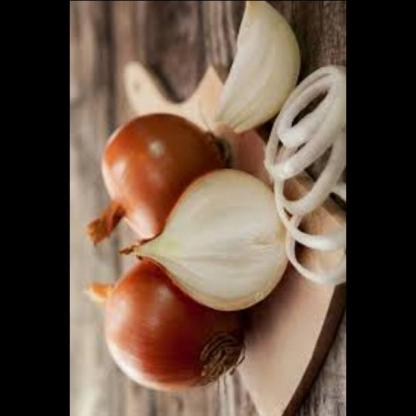onion: (118, 162, 288, 314), (103, 259, 251, 407), (83, 120, 234, 255), (258, 58, 344, 276), (212, 0, 309, 142)
